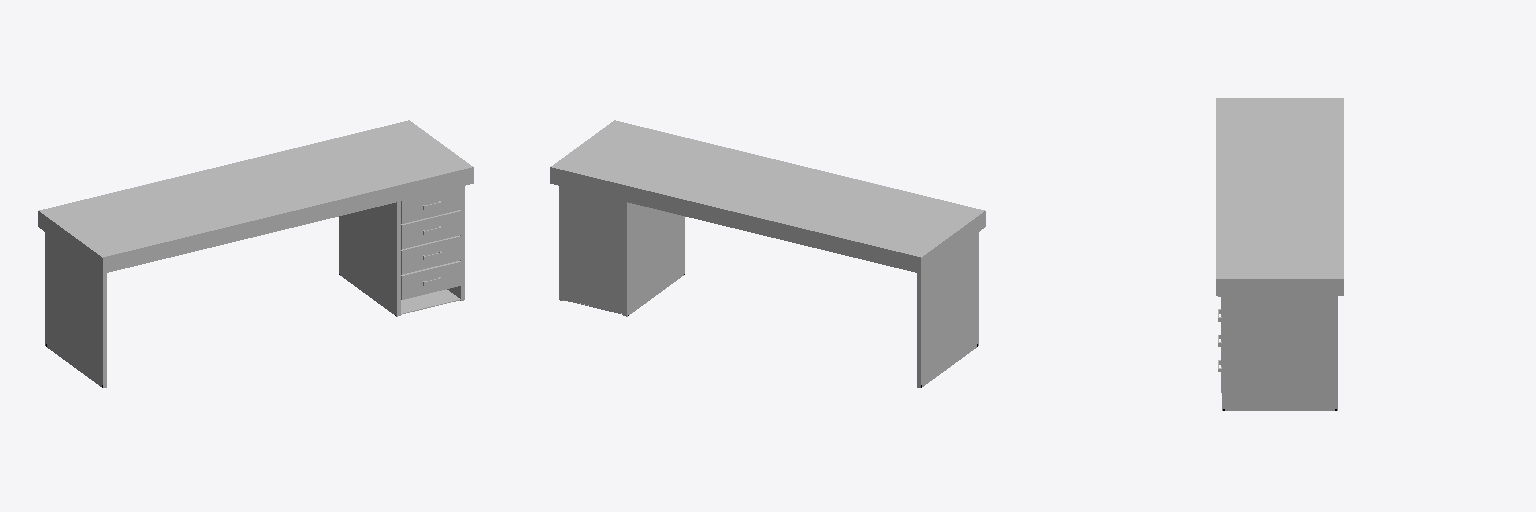
3 views of the same model, side by side, from view 1: azimuth 30°, elevation 25°; view 2: azimuth 150°, elevation 25°; view 3: azimuth 270°, elevation 25° (orthographic).
Parts seen in each view (by area): view 1: Desk_Cube, Drawer_4_Cube.018, Drawer_3_Cube.017, Drawer_2_Cube.016, Drawer_1_Cube.015; view 2: Desk_Cube; view 3: Desk_Cube.
Boxes of the visible parts, x1=… form: Desk_Cube: x1=38, y1=120, x2=473, y2=387; Drawer_4_Cube.018: x1=401, y1=261, x2=460, y2=299; Drawer_3_Cube.017: x1=401, y1=235, x2=460, y2=274; Drawer_2_Cube.016: x1=401, y1=210, x2=460, y2=249; Drawer_1_Cube.015: x1=401, y1=187, x2=460, y2=223; Desk_Cube: x1=550, y1=120, x2=985, y2=387; Desk_Cube: x1=1216, y1=98, x2=1343, y2=410.
Size of the model in its own units: 3.98 by 1.38 by 1.19.